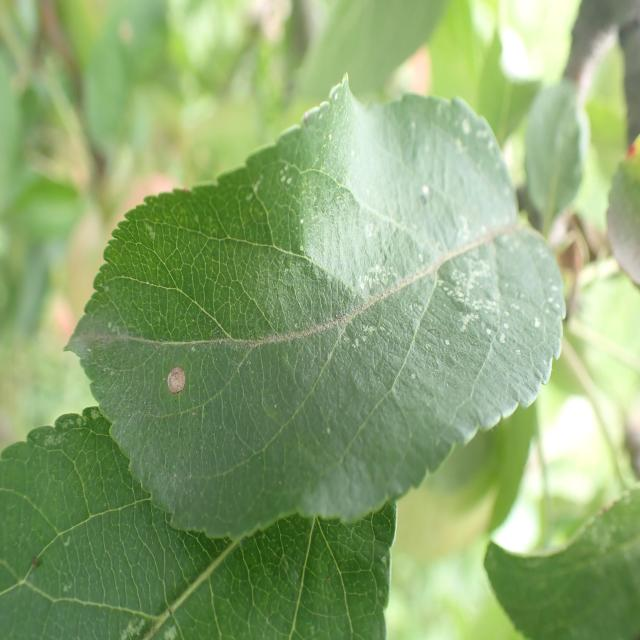Black Rot: (159, 346, 199, 429)
